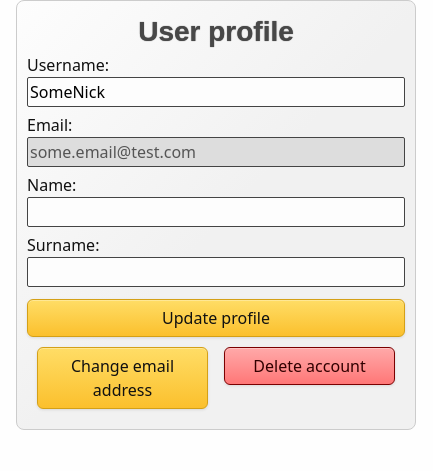
UserLandProfile › sends invalid field
Check: the field with test id "email" holds "some.email@test.com", box [27,137,405,167]
Check: the field with test id "name" is empty, box [27,197,405,227]
Clear the field with test id "username": [216, 92] box [27,77,405,107]
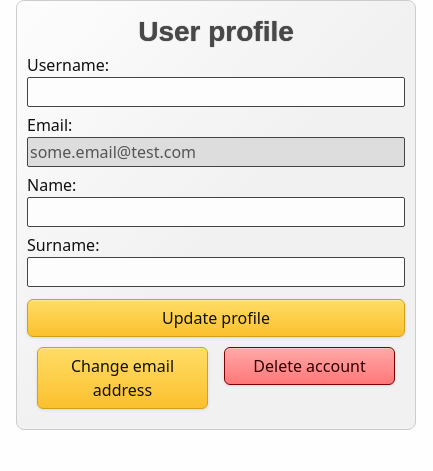
# Click on profile update button.
Submit the form from the submit button, box [27,299,405,337]
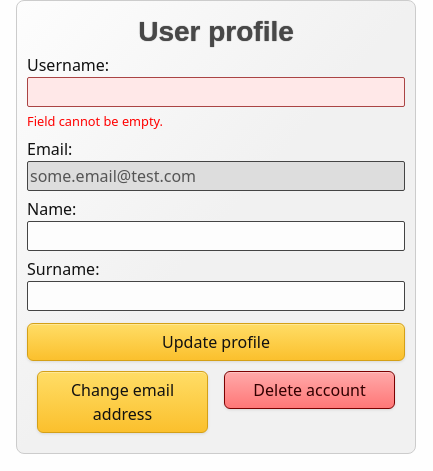
Check: the element with class "form-text-error" does not show ""
Check: the number of elements with class "form-text-error" is 1, box [27,112,163,130]
